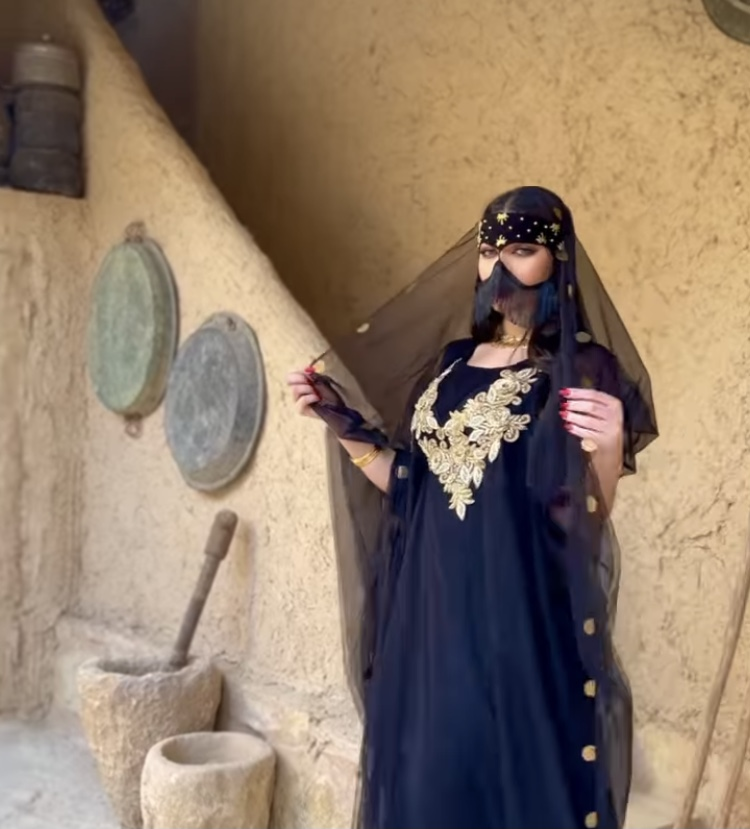Saudi_Founding_Day: (284, 181, 661, 829)
